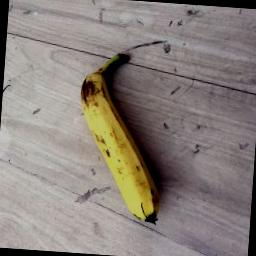Banana Ripe: (70, 52, 173, 234)
